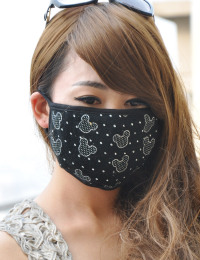face_mask: (49, 50, 155, 189)
